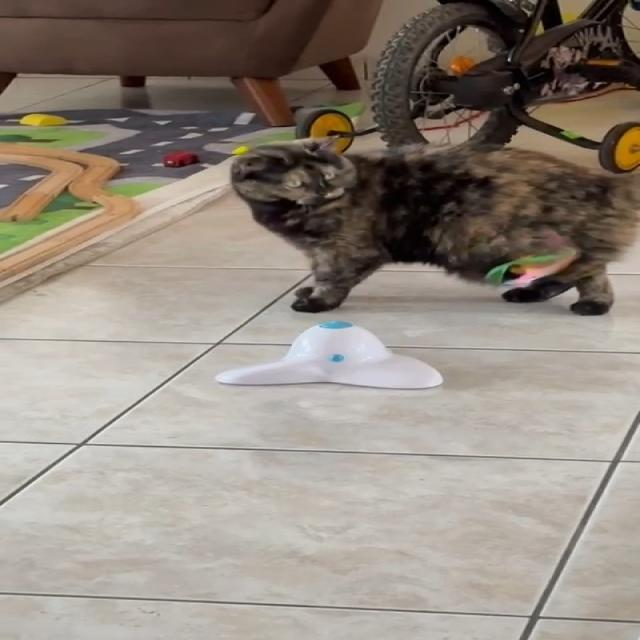authorized: (228, 133, 639, 316)
